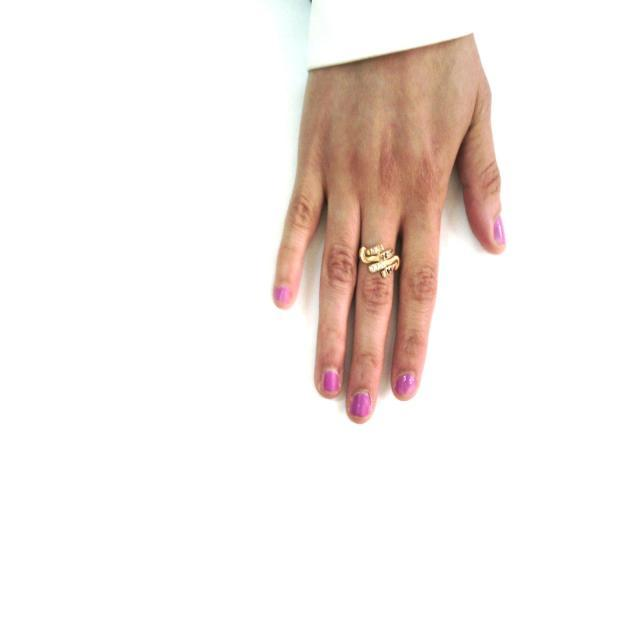Fingernail: (351, 391, 370, 417), (396, 373, 416, 395), (323, 370, 339, 392), (275, 286, 290, 307), (494, 217, 505, 244)
